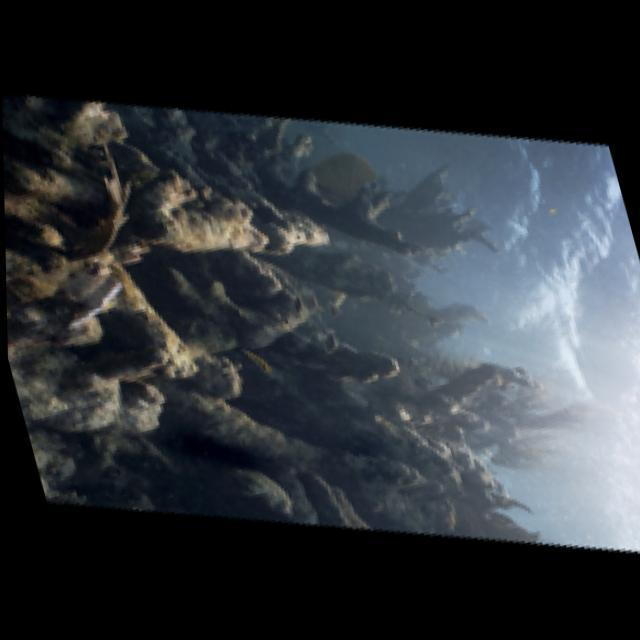Dead Coral: (1, 60, 533, 412), (239, 290, 612, 582), (2, 85, 220, 550), (75, 112, 364, 342)
